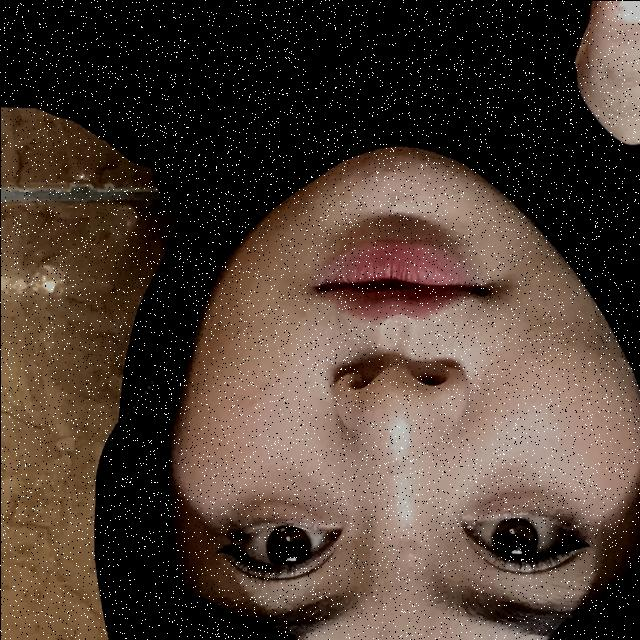kamu: (415, 0, 640, 199)
